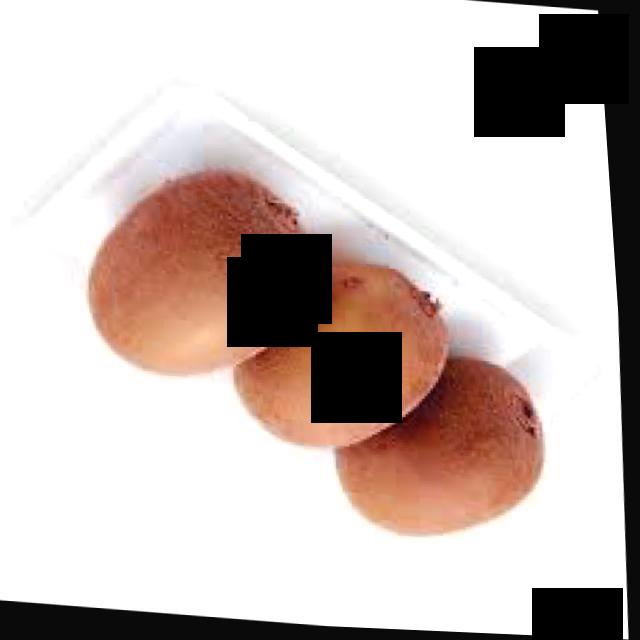kiwi: (74, 168, 332, 399), (219, 261, 466, 464), (332, 362, 579, 563)
